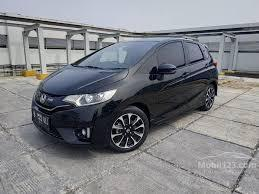Hatchback: (28, 37, 232, 154)
